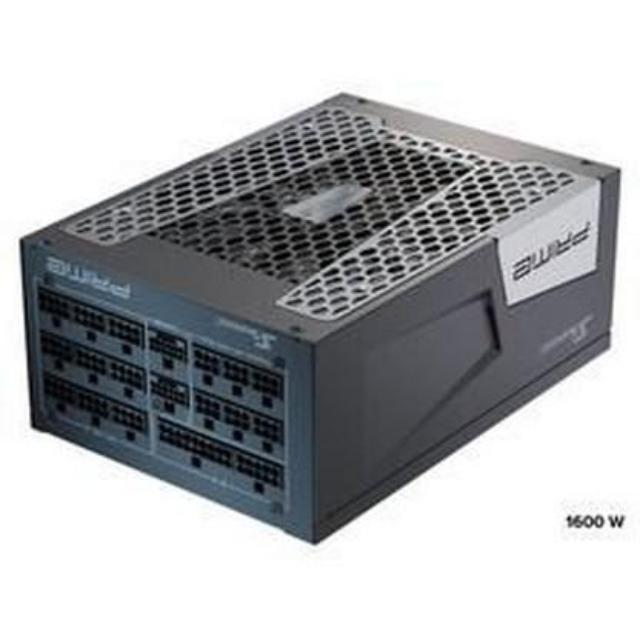PSU: (0, 82, 640, 550)
